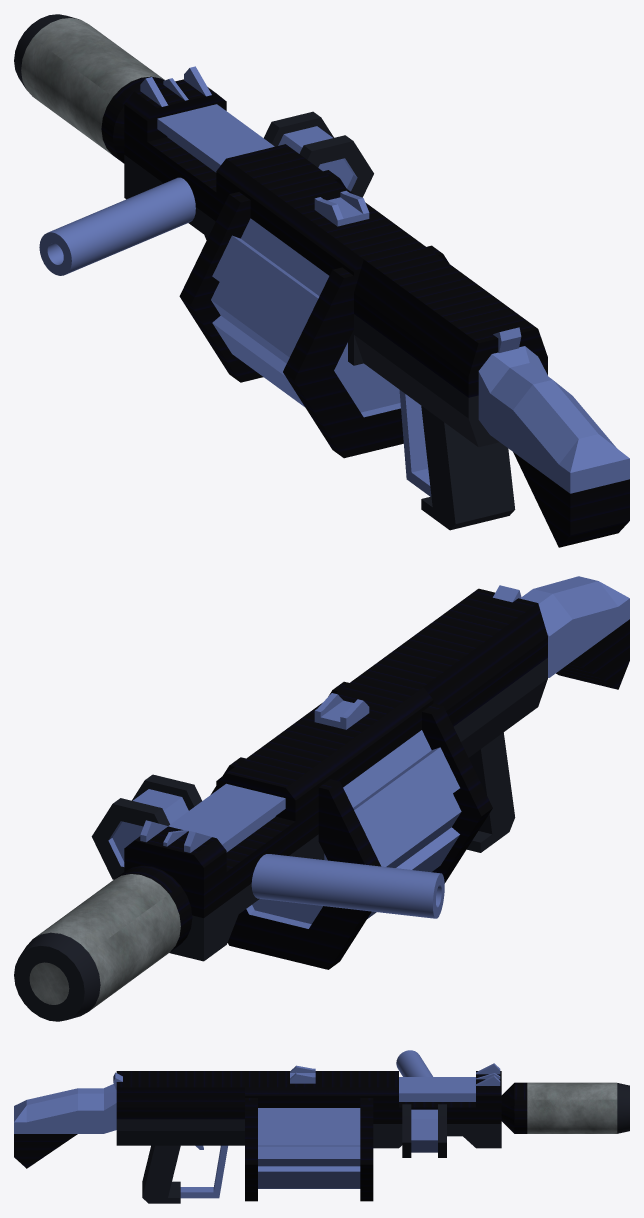
The model's file is lmg2.glb.
The picture shows the model from 3 angles, top to bottom: view 1: azimuth 30°, elevation 25°; view 2: azimuth 150°, elevation 25°; view 3: azimuth 270°, elevation 25°; orthographic projection. The views are drawn at different scales.
Parts seen in each view (by area): view 1: mediumBlaster_handleGuardSmall, clipBarrel_large, stock_solid, blaster_centerDetail, attachment_silencer, blaster_center, attachment_barrelThin, clipBarrel_small, detailTargetSight; view 2: clipBarrel_large, mediumBlaster_handleGuardSmall, blaster_centerDetail, attachment_silencer, blaster_center, stock_solid, attachment_barrelThin, clipBarrel_small, detailTargetSight; view 3: mediumBlaster_handleGuardSmall, clipBarrel_large, blaster_centerDetail, attachment_silencer, stock_solid, blaster_center, clipBarrel_small, attachment_barrelThin, detailTargetSight.
Part boxes in pixels (x1,y1,x2,y2): mediumBlaster_handleGuardSmall: (354,245,547,530); clipBarrel_large: (179,170,449,458); stock_solid: (478,327,629,547); blaster_centerDetail: (124,79,308,240); attachment_silencer: (14,14,164,163); blaster_center: (239,161,422,365); attachment_barrelThin: (39,177,195,275); clipBarrel_small: (264,111,373,197); detailTargetSight: (314,190,369,226); clipBarrel_large: (210,681,492,969); mediumBlaster_handleGuardSmall: (364,588,547,852); blaster_centerDetail: (124,756,318,961); attachment_silencer: (14,865,192,1021); blaster_center: (249,672,433,859); stock_solid: (493,576,629,689); attachment_barrelThin: (251,854,444,918); clipBarrel_small: (91,774,201,879); detailTargetSight: (314,693,369,729); mediumBlaster_handleGuardSmall: (116,1071,244,1203); clipBarrel_large: (245,1098,373,1201); blaster_centerDetail: (373,1071,501,1148); attachment_silencer: (501,1082,629,1133); stock_solid: (14,1072,122,1168); blaster_center: (245,1071,373,1107); clipBarrel_small: (402,1104,446,1157); attachment_barrelThin: (396,1050,432,1076); detailTargetSight: (290,1065,315,1083).
Bounding box in the file's own units: 1.6 × 1.08 × 4.8.
Materials: 25 (7 with a texture image).
